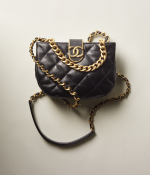channel: (28, 36, 118, 99), (66, 47, 87, 61)
